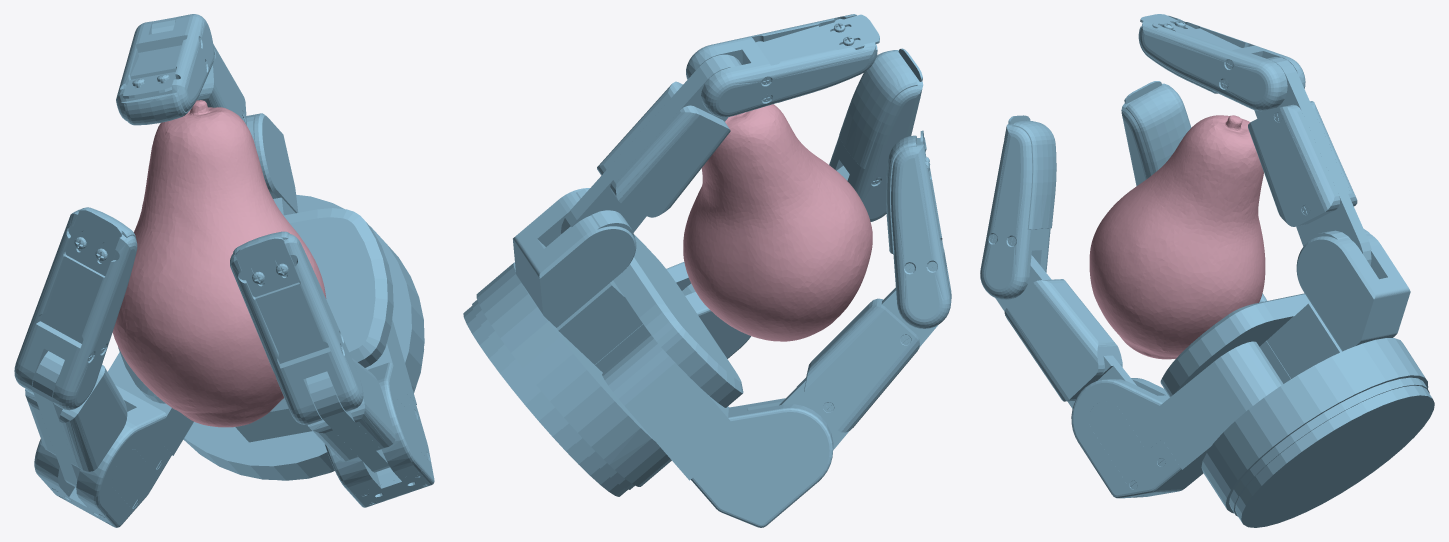
3 views of the same model, side by side, from view 1: azimuth 30°, elevation 25°; view 2: azimuth 150°, elevation 25°; view 3: azimuth 270°, elevation 25° (orthographic). The views are drawn at different scales.
Parts seen in each view (by area): view 1: world, pear.stl; view 2: world, pear.stl; view 3: world, pear.stl.
Boxes of the visible parts, x1,y1,x2,y2 form: world: (14,14,434,527); pear.stl: (112,100,326,427); world: (463,14,951,527); pear.stl: (683,104,872,341); world: (980,14,1434,527); pear.stl: (1089,115,1265,359).
Size of the model in its own units: 0.1677 by 0.1764 by 0.1697.
